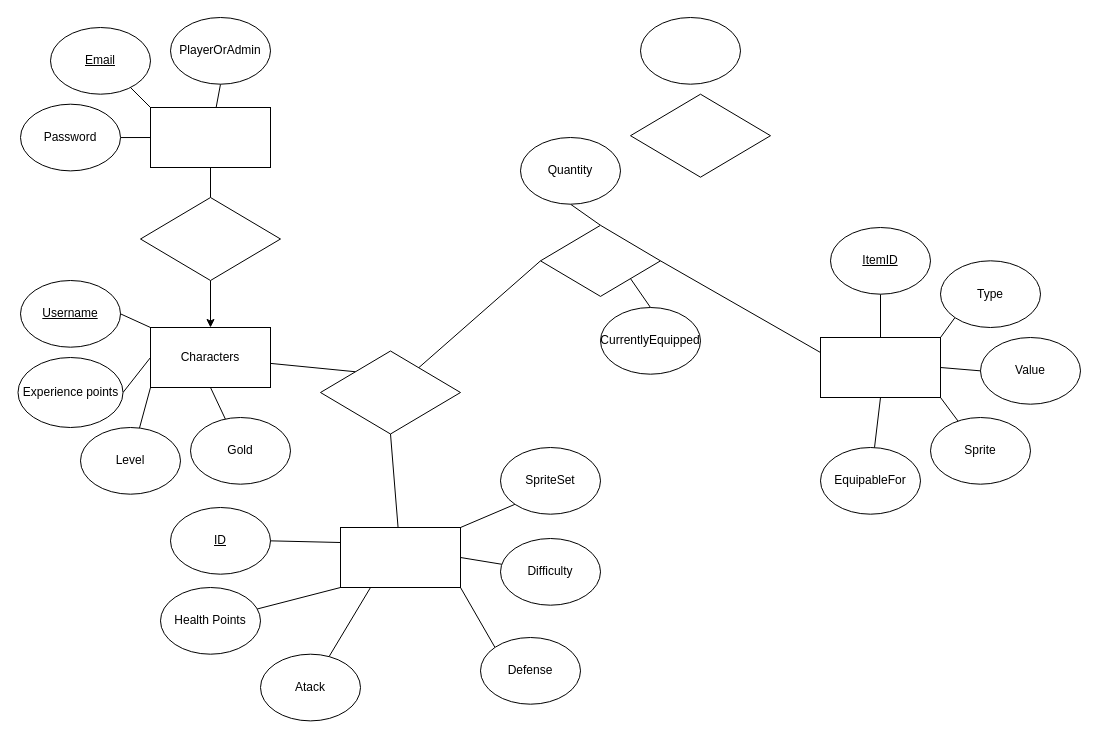
This 1098x739 diagram has some shape labels left out. The centre of each missing label's shape, as x and y in pixels:
Class: the point at 390,392
Entity: the point at 400,557
Equipment: the point at 600,260
Items: the point at 880,367
Users: the point at 210,137
UsersNicknames: the point at 210,238
